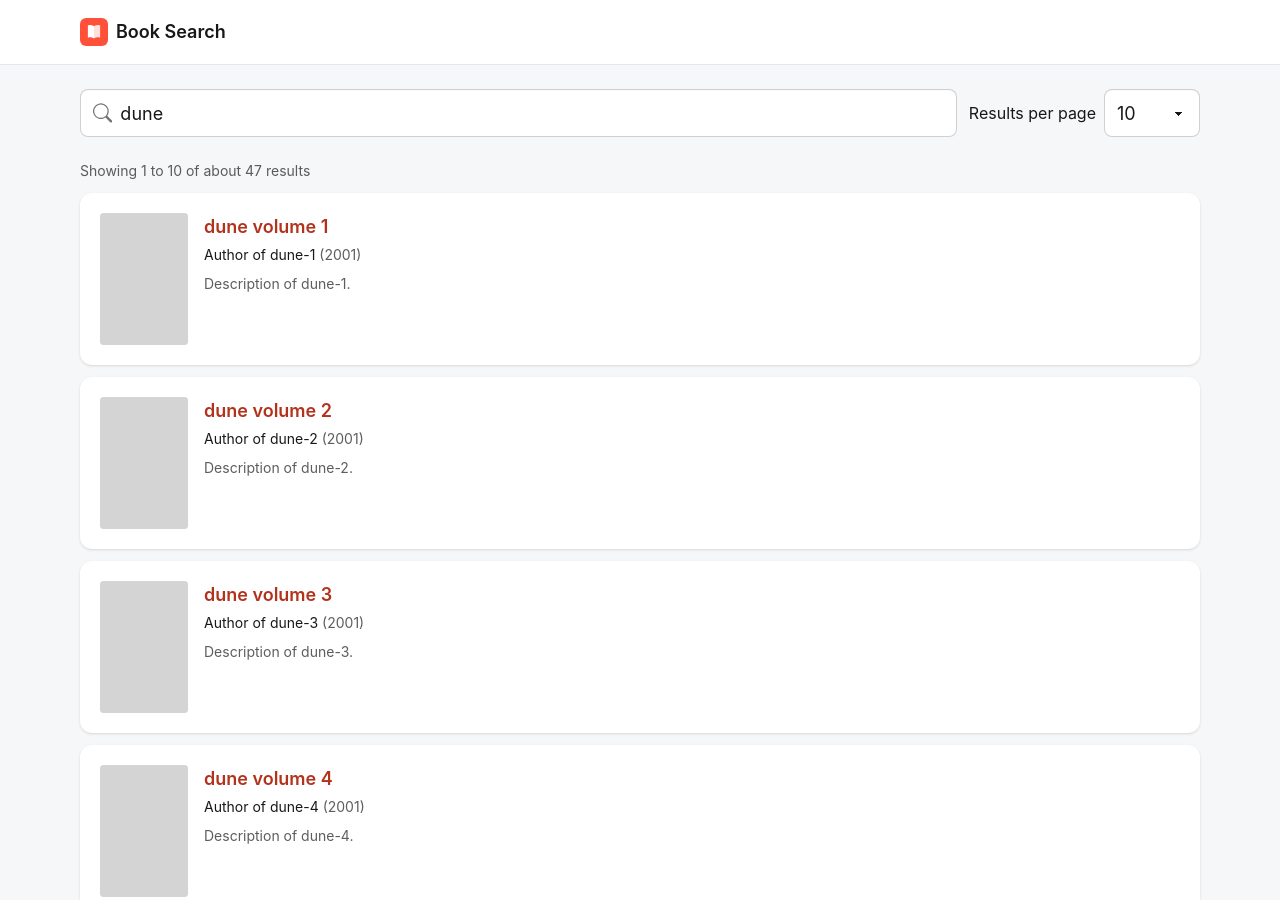
Test case: Search page › live search › goes back to the intro when the box is cleared
Expected: the link "dune volume 1" is shown, [204,216,328,237]
Clear the search field named "Search books": {"x": 532, "y": 113} [120,90,944,136]
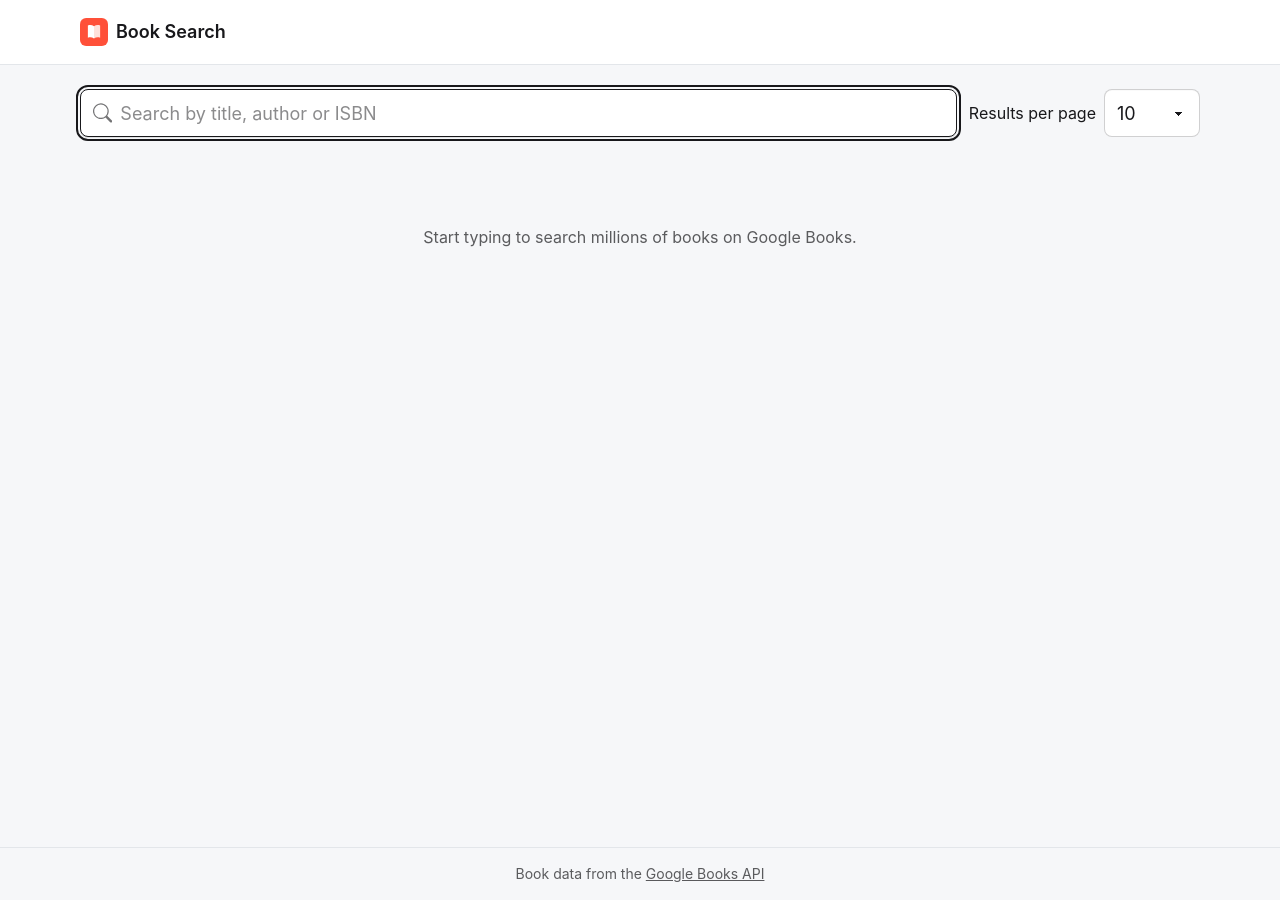
Result: the text "Start typing to search millions of books on Google Books." is shown at [423,227,857,247]
